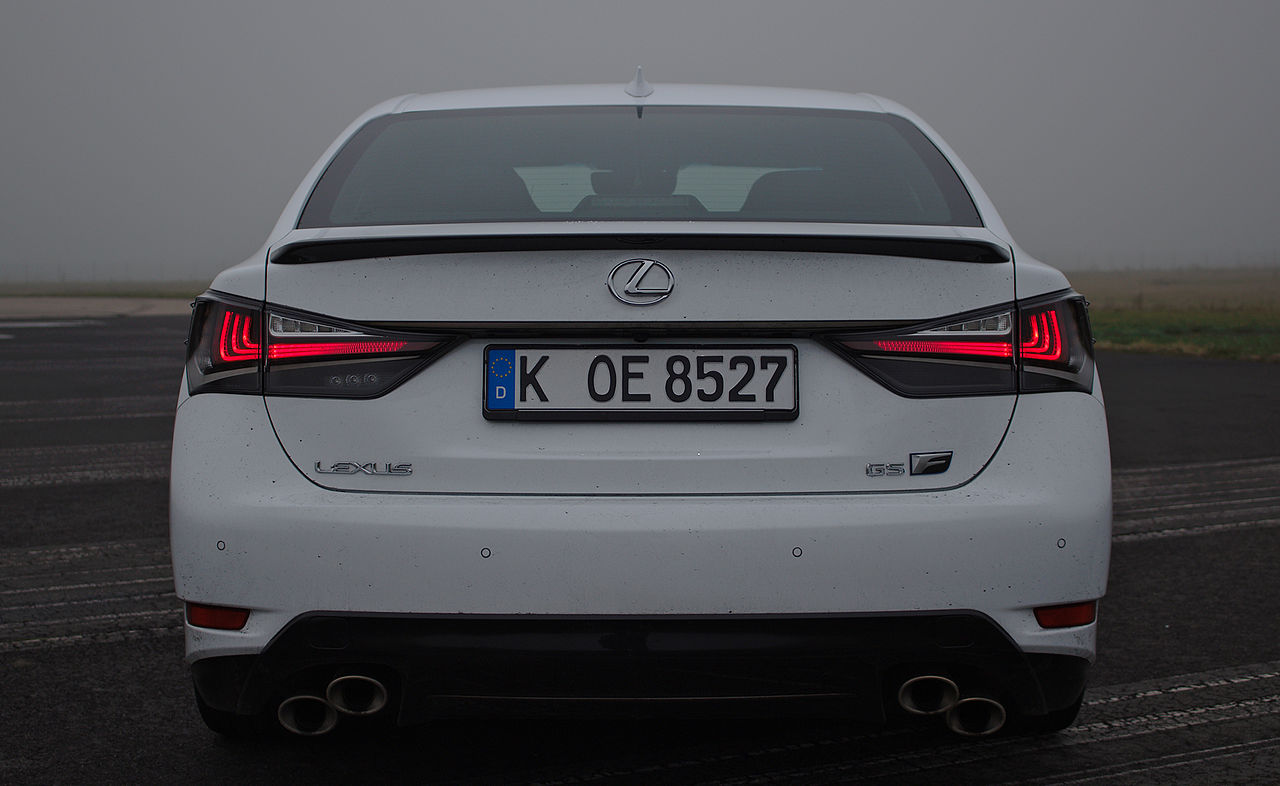plate: (484, 346, 798, 412)
